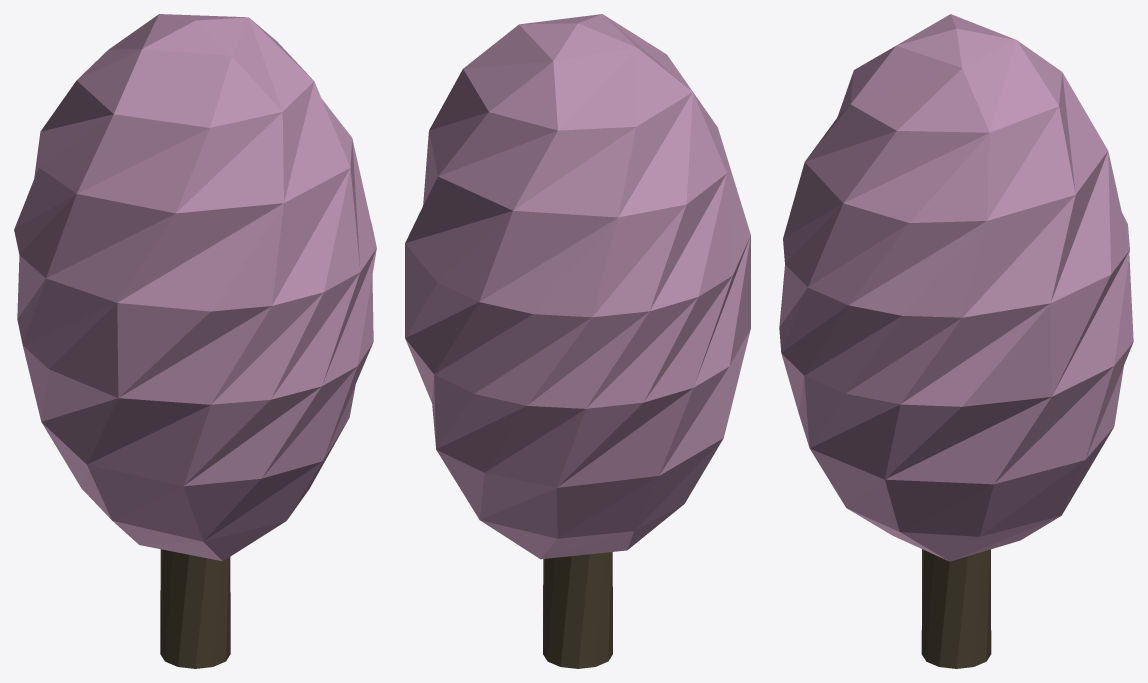
File: spring_twisted2.dae
The picture shows the model from 3 angles, left to right: view 1: azimuth 30°, elevation 25°; view 2: azimuth 150°, elevation 25°; view 3: azimuth 270°, elevation 25°; orthographic projection.
Parts seen in each view (by area): view 1: Kugel, Zylinder; view 2: Kugel, Zylinder; view 3: Kugel, Zylinder.
Boxes of the visible parts, bbox=[...] form: Kugel: bbox=[14, 14, 376, 561]; Zylinder: bbox=[160, 549, 230, 668]; Kugel: bbox=[405, 14, 750, 559]; Zylinder: bbox=[543, 552, 612, 668]; Kugel: bbox=[779, 14, 1133, 561]; Zylinder: bbox=[921, 549, 991, 668].
Bounding box in the file's own units: 52.12 × 103 × 53.09.
